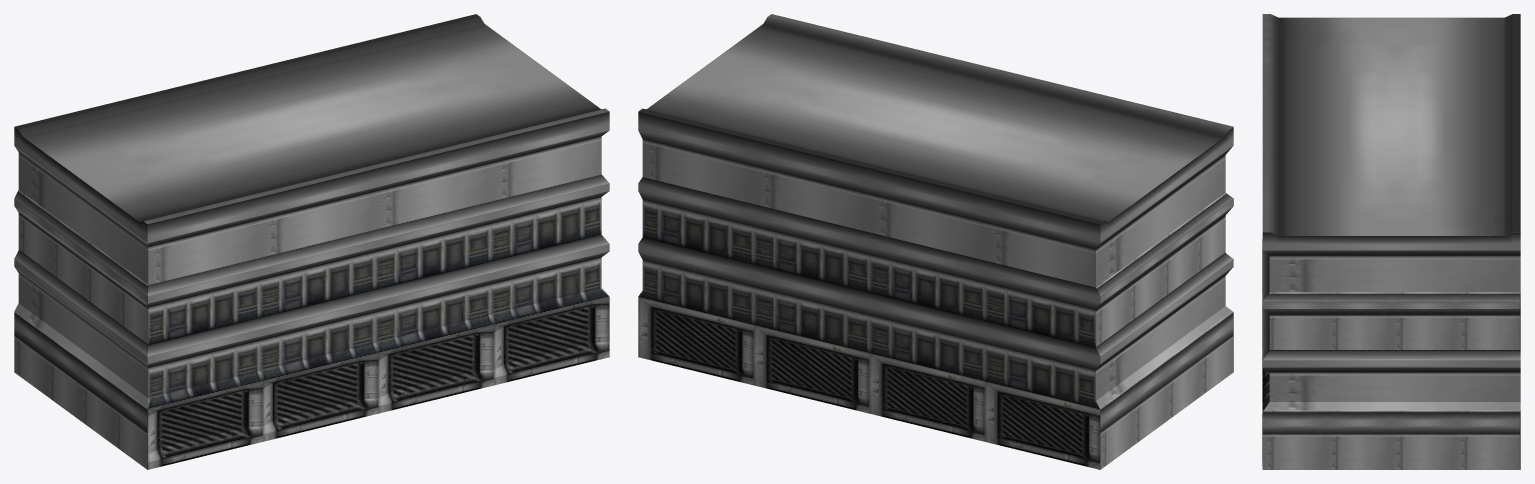
File: ground_02d.fbx
3 views of the same model, side by side, from view 1: azimuth 30°, elevation 25°; view 2: azimuth 150°, elevation 25°; view 3: azimuth 270°, elevation 25° (orthographic). The views are drawn at different scales.
Parts seen in each view (by area): view 1: Cube; view 2: Cube; view 3: Cube.
Part boxes in pixels (x1=…): Cube: x1=14, y1=14, x2=609, y2=469; Cube: x1=638, y1=14, x2=1233, y2=469; Cube: x1=1262, y1=14, x2=1520, y2=469.
Size of the model in its own units: 4000 by 2031 by 2003.
Materials: 1 (1 with a texture image).
